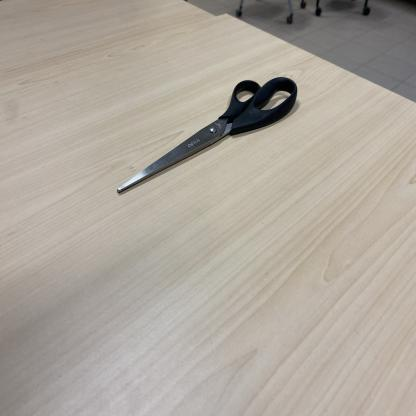scissors: (117, 76, 298, 196)
